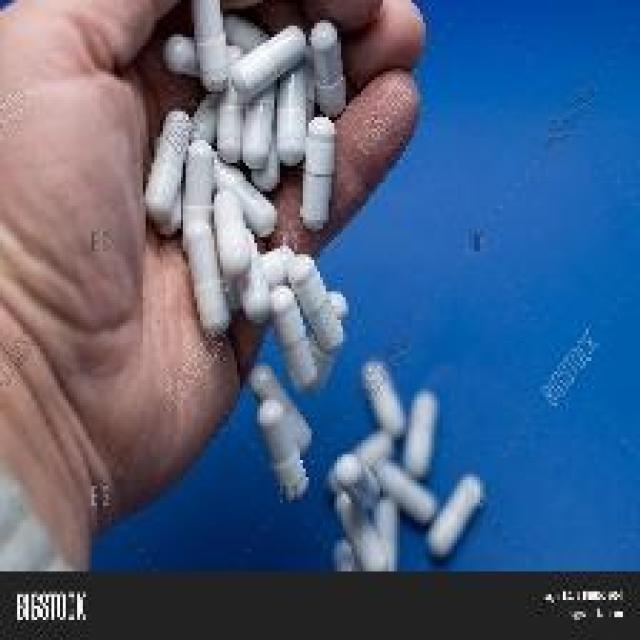Medicine: (89, 0, 545, 578)
